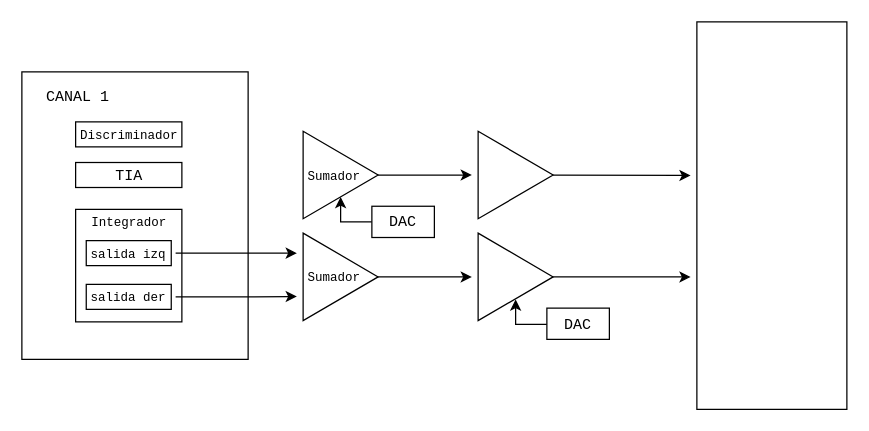
The diagram is 869 pixels wide and 431 high, and some of its shapes have lost their labels. The centre of each missing label's shape, as x and y in pixels:
"Comparador" goes at (515,276).
"Inversor" goes at (515,174).
